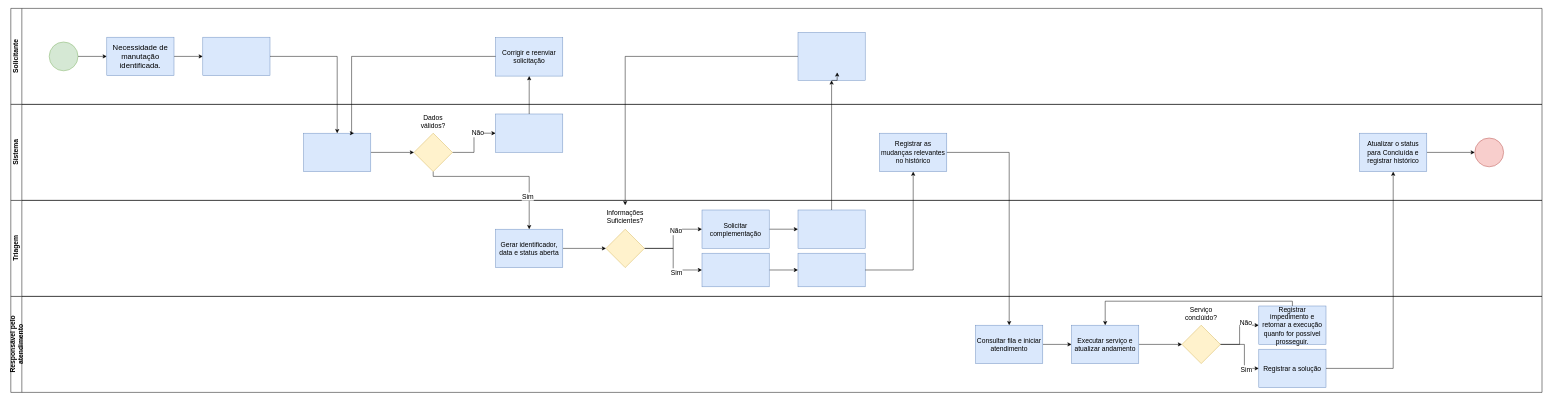
The diagram is 1550 pixels wide and 401 high, and some of its shapes have lost their labels. Each missing label, with the centre of its shape:
"Aguardar o solicitante" goes at point 831,229.
"Atribuir responsável ou equipe" goes at point 831,270.
"Classificar e definir prioridade" goes at point 735,270.
"Complementar informações" goes at point 831,56.
"Preencher e enviar solicitação" goes at point 236,56.
"Solicitar correção" goes at point 529,133.
"Validar campos obrigatórios" goes at point 337,152.
